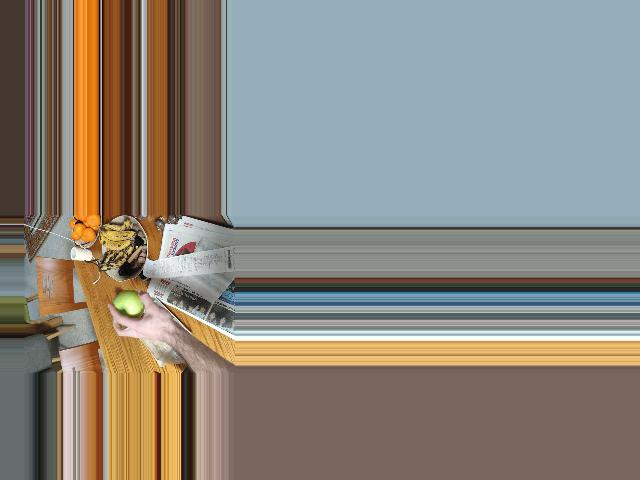apple: (109, 288, 144, 320)
